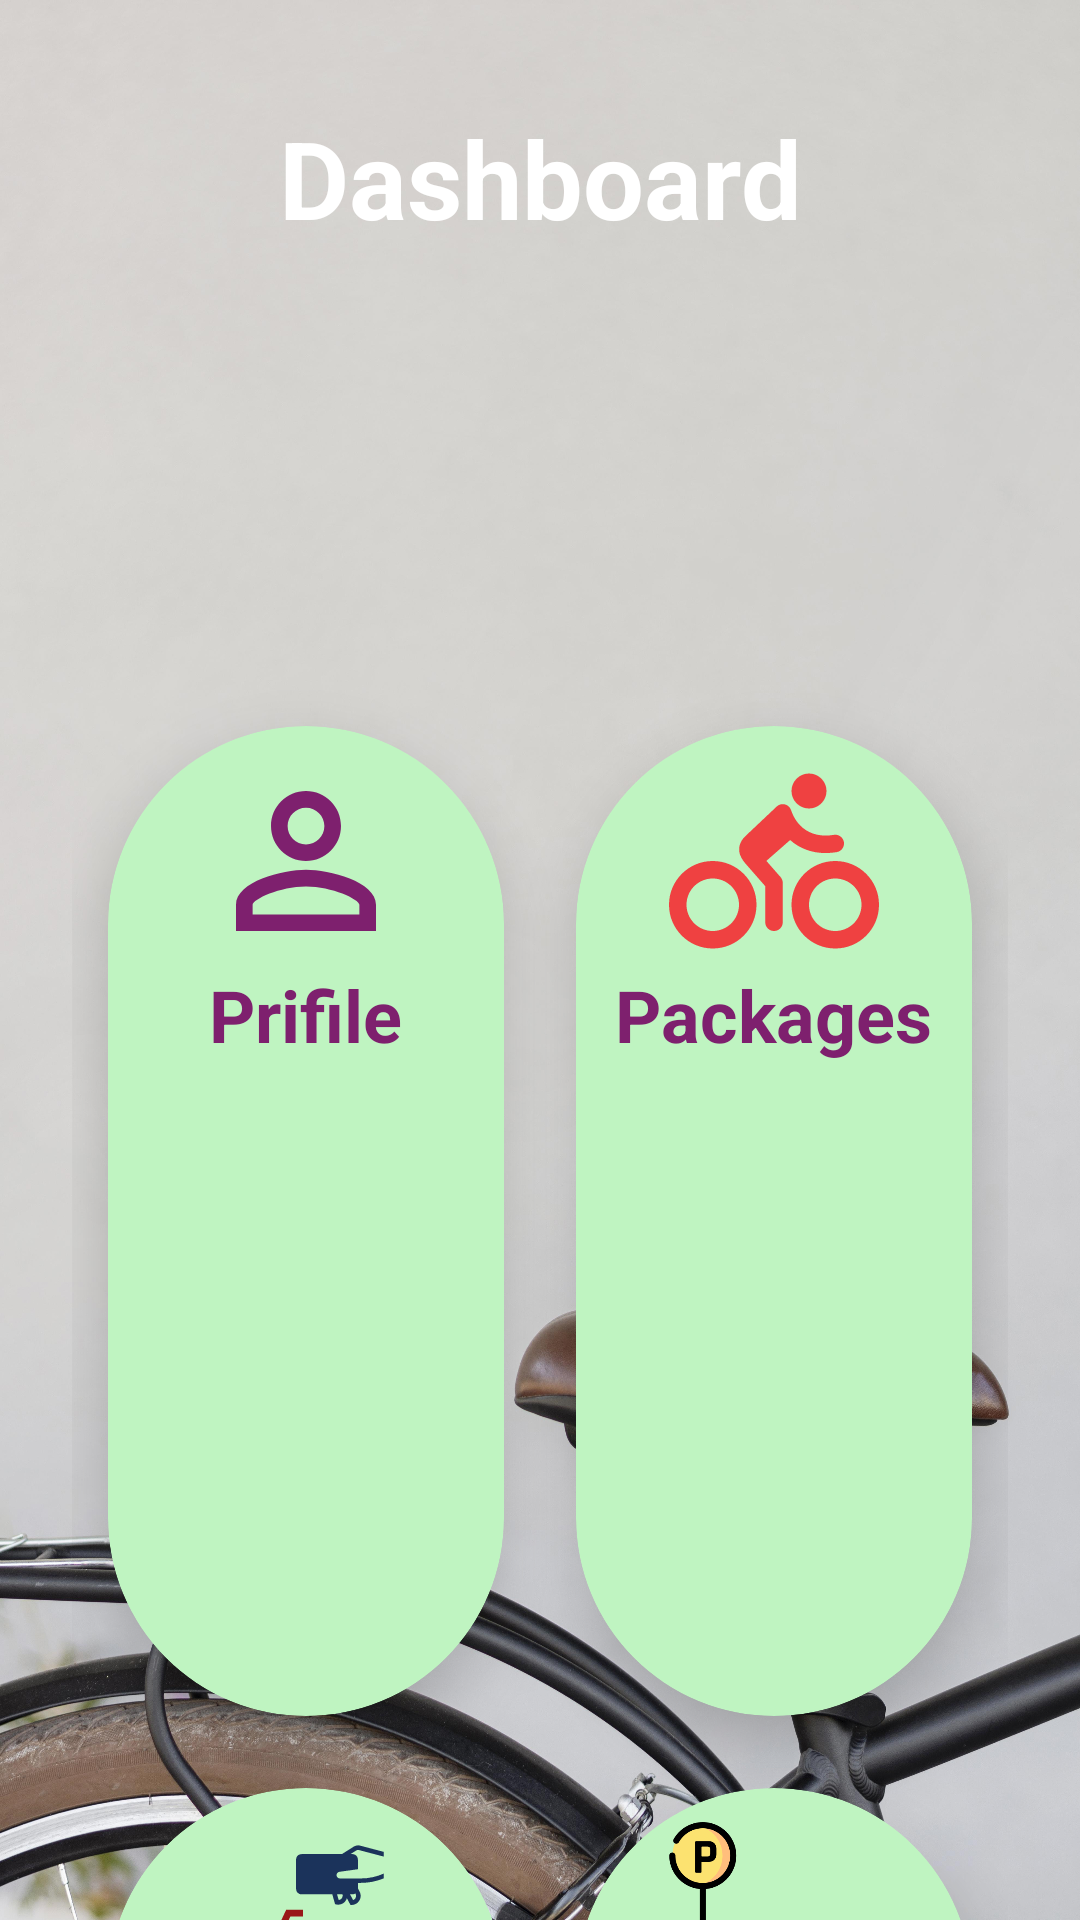

Locate icon controls on the screen. Image size 1080px×1920px, boxes as bbox=[x1, y1, x2, y2].
bicycle: bbox=[669, 773, 879, 949]
